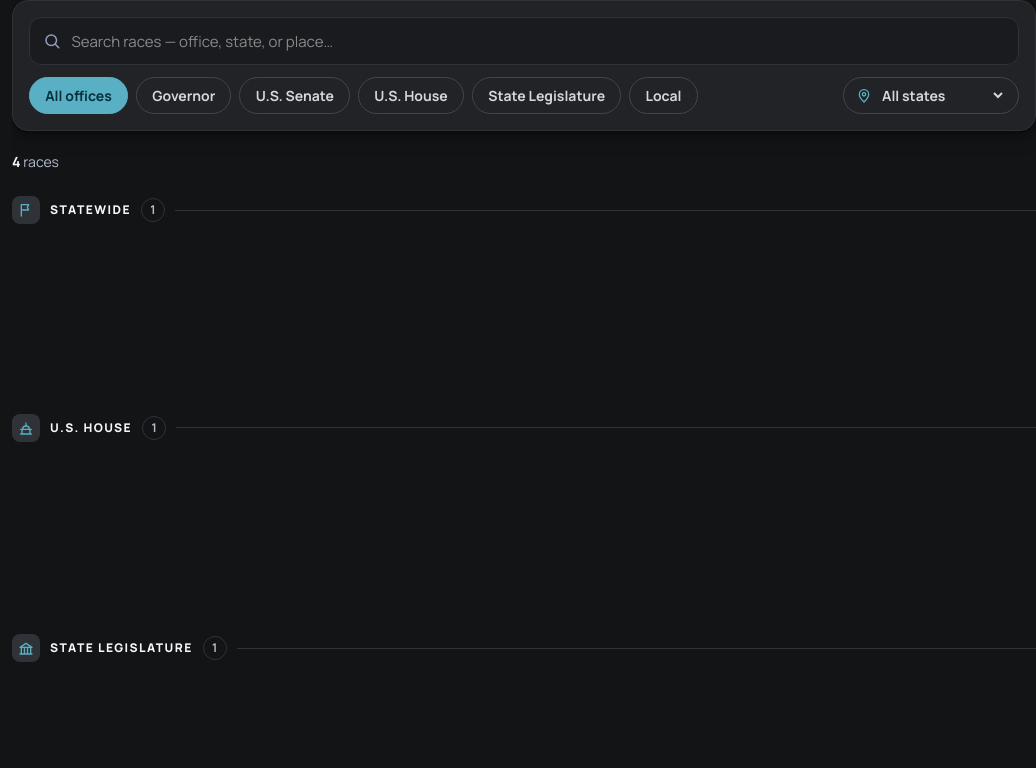
Scenario: RaceBrowse — search-first › search synonyms: "house" matches U.S. Representative
Type "house" into the search field labelled "Search races" at coordinates (524, 41), box [29,17,1019,65]
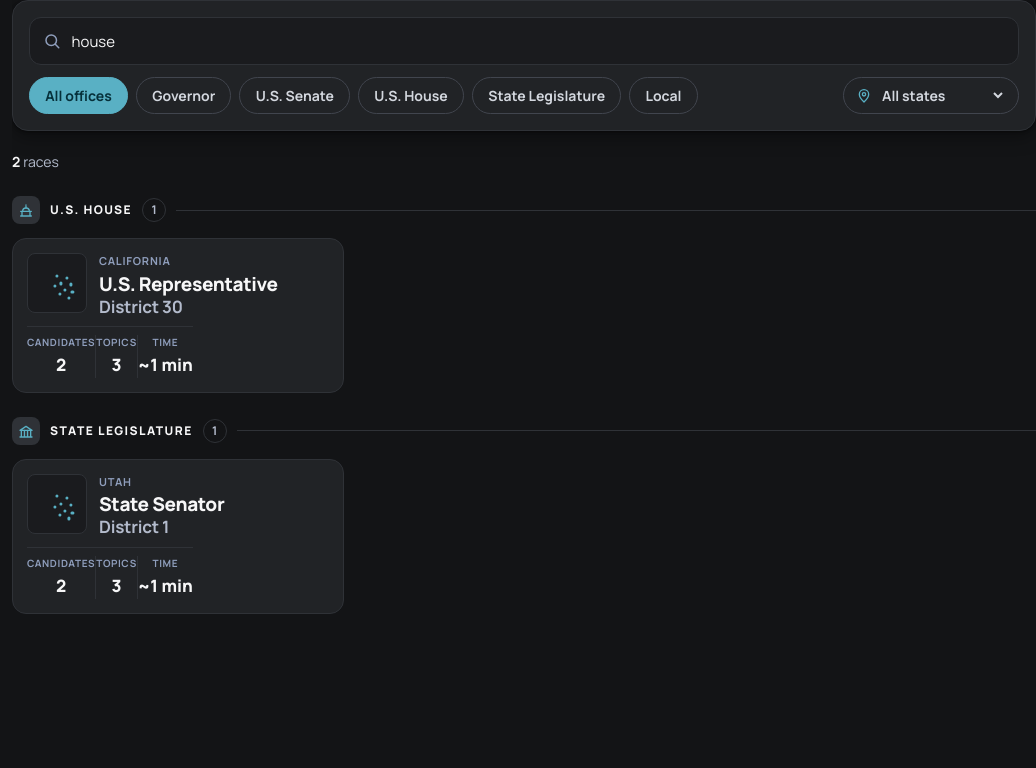
Expected: the button with aria-label "open u.s. representative race" is shown, [12,238,344,393]
